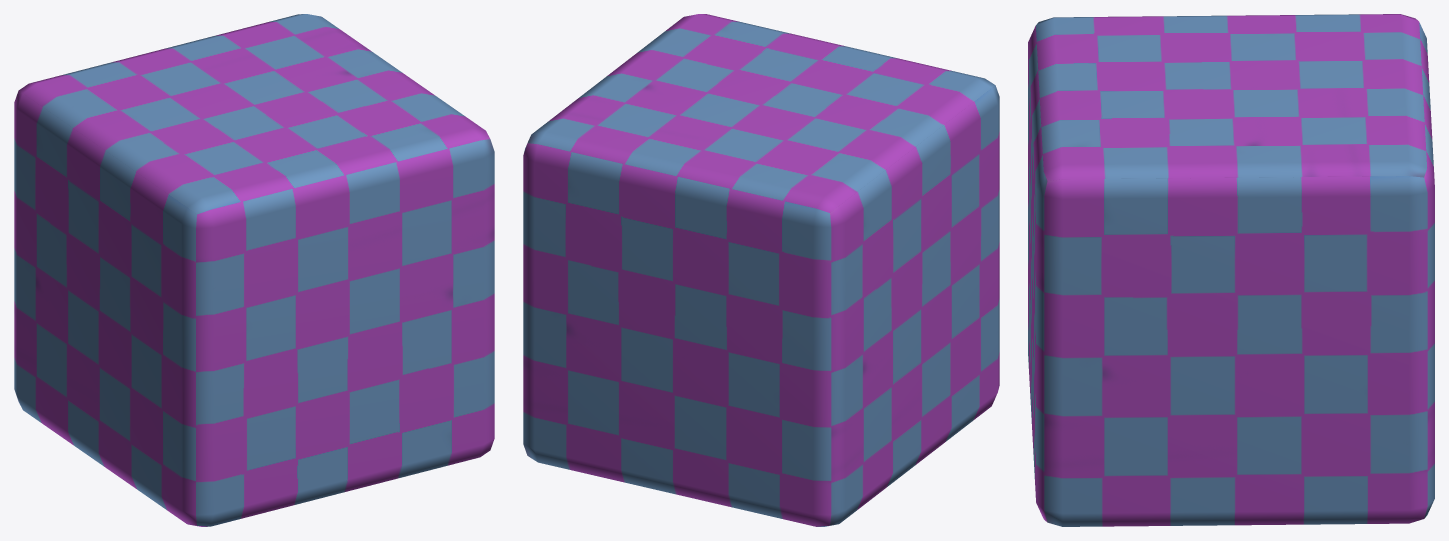
File: sdsdd.fbx
3 views of the same model, side by side, from view 1: azimuth 30°, elevation 25°; view 2: azimuth 150°, elevation 25°; view 3: azimuth 270°, elevation 25° (orthographic). The views are drawn at different scales.
Visible parts, largest first — view 1: PickUpItemBox; view 2: PickUpItemBox; view 3: PickUpItemBox.
Part boxes in pixels (x1,y1,x2,y2): PickUpItemBox: [14, 14, 494, 526]; PickUpItemBox: [523, 14, 999, 526]; PickUpItemBox: [1028, 14, 1434, 526].
Bounding box in the file's own units: 306 × 300 × 306.
